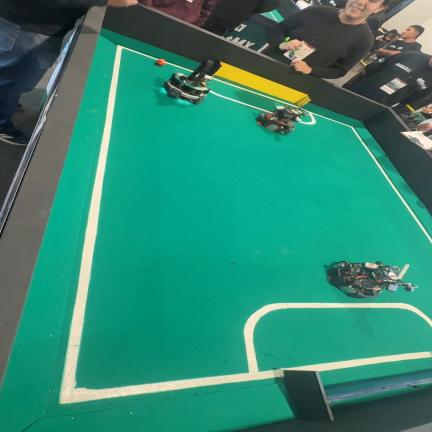cancha: (0, 30, 432, 432)
limites: (60, 45, 432, 404), (300, 110, 432, 244), (214, 78, 294, 107), (210, 90, 269, 112), (166, 62, 192, 72)
pelota: (156, 59, 166, 66)
porteria: (284, 369, 432, 421), (215, 63, 310, 107)
robot: (328, 261, 417, 297), (164, 61, 221, 105), (256, 105, 308, 135)
